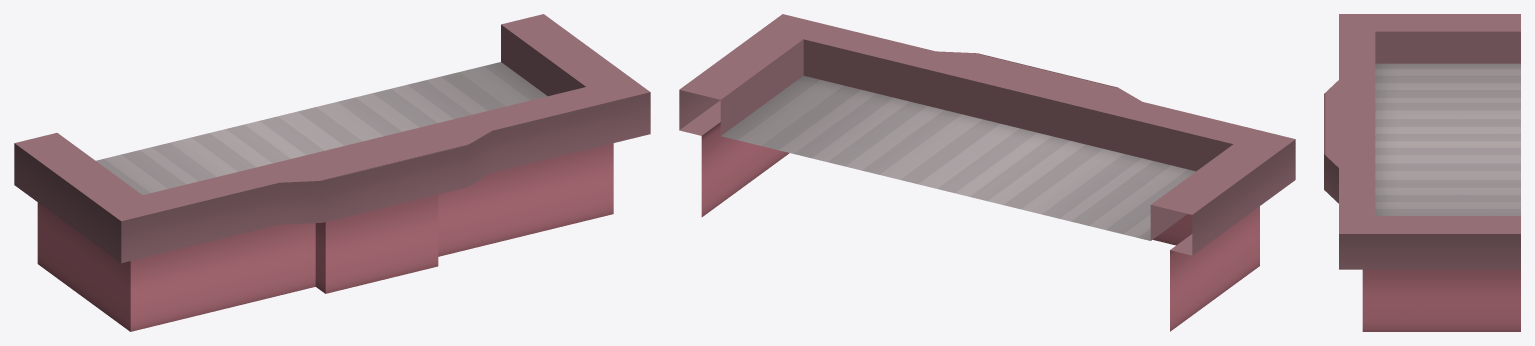
Rendered from Build3_roof.FBX.
3 views of the same model, side by side, from view 1: azimuth 30°, elevation 25°; view 2: azimuth 150°, elevation 25°; view 3: azimuth 270°, elevation 25° (orthographic). The views are drawn at different scales.
Parts seen in each view (by area): view 1: Build3_roof001; view 2: Build3_roof001; view 3: Build3_roof001.
Boxes of the visible parts, <box> form: Build3_roof001: <box>14,14,650,331</box>; Build3_roof001: <box>679,14,1295,331</box>; Build3_roof001: <box>1324,14,1520,331</box>.
Size of the model in its own units: 6.57 by 1.5 by 2.49.
